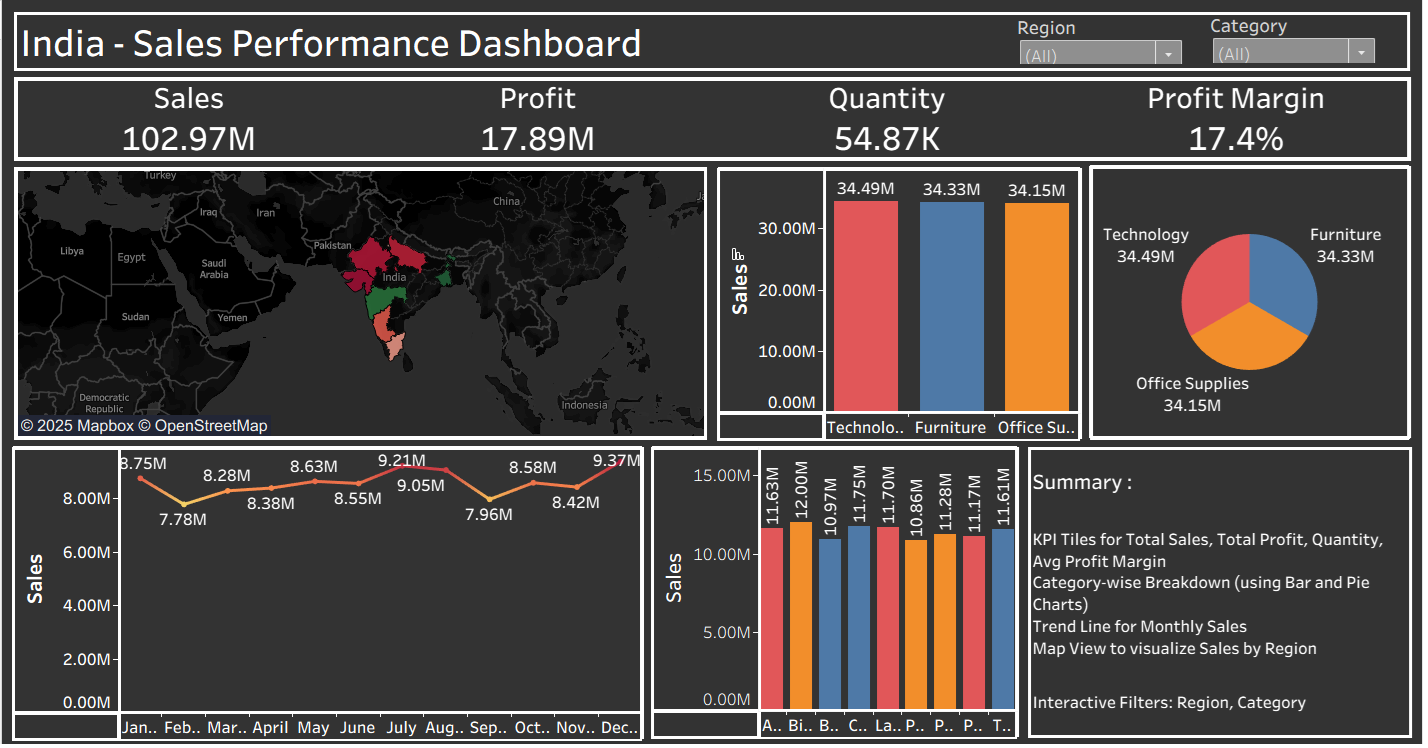

Layout of this report page (visuals, bound fields, positions):
{"tool":"tableau","page":{"name":"Main_Dashboard","canvas":[1000,1000],"units":"permille","ordinal":1},"visuals":[{"type":"title","box":[5.6,10.7,988.7,89.7]},{"type":"filter","title":"Bar_Cat_Sal","param":"[federated.1f79g021buoa1b1cn1mlz1d0ahd2].[none:Category:nk]","box":[850.7,16.1,118.3,68.3]},{"type":"filter","title":"Bar_Cat_Sal","param":"[federated.1f79g021buoa1b1cn1mlz1d0ahd2].[none:Region:nk]","box":[714.8,18.7,118.3,66.9]},{"type":"worksheet","title":"KPI_Sales","mark":"Automatic","box":[7,100.4,985.9,121.8]},{"type":"worksheet","title":"Pie_Cat_Sal","mark":"Pie","box":[765.5,220.9,226.8,372.2]},{"type":"worksheet","title":"Map_Sal_Reg","mark":"Multipolygon","box":[8.4,223.6,488.7,365.5]},{"type":"worksheet","title":"Bar_Cat_Sal","mark":"Bar","rows":["Sales"],"cols":["Category"],"box":[503.5,223.6,257,366.8]},{"type":"worksheet","title":"Trend_Line","mark":"Automatic","rows":["Sales"],"cols":["Order Date"],"box":[7,597.1,445.1,394.9]},{"type":"worksheet","title":"Prf_mar_catg","mark":"Automatic","rows":["Sales"],"cols":["Sub-Category"],"box":[457,597.1,259.1,392.2]},{"type":"worksheet","title":"Summary","mark":"Automatic","box":[721.8,597.1,271.8,392.2]}]}

Visuals, with their boxes on the dashboard's canvas, which has no fixed pixel size, in thousandths of its width and height (x1, y1, x2, y2). These are canvas units, not pixel positions in the 1428x748 screenshot, which may show the page scaled, cropped or inside an application window:
title: bbox=(6, 11, 994, 100)
"Bar_Cat_Sal" filter: bbox=(851, 16, 969, 84)
"Bar_Cat_Sal" filter: bbox=(715, 19, 833, 86)
"KPI_Sales" worksheet: bbox=(7, 100, 993, 222)
"Pie_Cat_Sal" worksheet (Pie marks): bbox=(766, 221, 992, 593)
"Map_Sal_Reg" worksheet (Multipolygon marks): bbox=(8, 224, 497, 589)
"Bar_Cat_Sal" worksheet (Bar marks): bbox=(504, 224, 760, 590)
"Trend_Line" worksheet: bbox=(7, 597, 452, 992)
"Prf_mar_catg" worksheet: bbox=(457, 597, 716, 989)
"Summary" worksheet: bbox=(722, 597, 994, 989)
